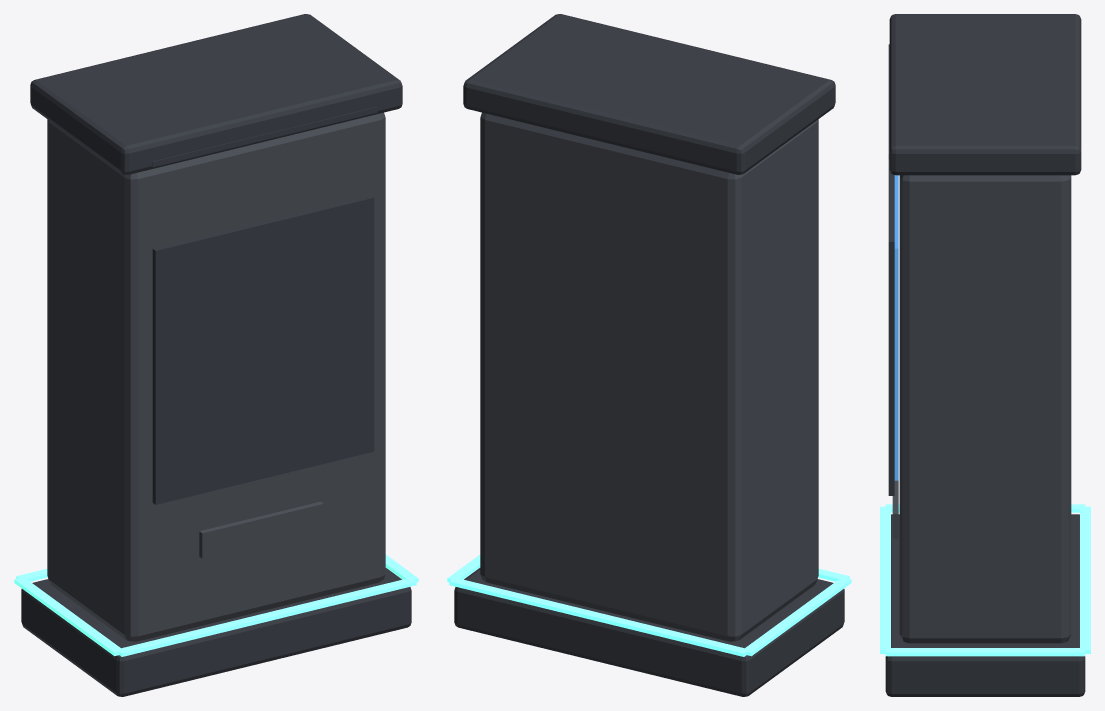
File: kiosk.glb
3 views of the same model, side by side, from view 1: azimuth 30°, elevation 25°; view 2: azimuth 150°, elevation 25°; view 3: azimuth 270°, elevation 25° (orthographic).
Parts seen in each view (by area): view 1: part_body, part_screen_edge, part_cap, part_base, part_logo, part_base_outline_x0, part_cap_glow, part_base_outline_z0; view 2: part_body, part_cap, part_base, part_base_outline_x1, part_base_outline_z0; view 3: part_body, part_cap, part_base, part_screen_edge, part_base_outline_z1, part_base_outline_x1, part_base_outline_x0, part_screen, part_logo.
Part boxes in pixels (bbox=[...]): part_body: bbox=[47, 112, 385, 641]; part_screen_edge: bbox=[152, 195, 374, 504]; part_cap: bbox=[30, 14, 402, 174]; part_base: bbox=[21, 568, 411, 696]; part_logo: bbox=[199, 501, 323, 558]; part_base_outline_x0: bbox=[119, 577, 416, 656]; part_cap_glow: bbox=[151, 107, 377, 167]; part_base_outline_z0: bbox=[14, 577, 122, 656]; part_body: bbox=[480, 112, 818, 641]; part_cap: bbox=[463, 14, 835, 174]; part_base: bbox=[454, 568, 844, 696]; part_base_outline_x1: bbox=[449, 577, 746, 656]; part_base_outline_z0: bbox=[742, 577, 851, 656]; part_body: bbox=[899, 175, 1071, 643]; part_cap: bbox=[889, 14, 1081, 175]; part_base: bbox=[885, 514, 1085, 696]; part_screen_edge: bbox=[888, 159, 894, 495]; part_base_outline_z1: bbox=[885, 648, 1085, 656]; part_base_outline_x1: bbox=[1080, 506, 1090, 653]; part_base_outline_x0: bbox=[880, 506, 890, 653]; part_screen: bbox=[894, 175, 898, 480]; part_logo: bbox=[892, 480, 898, 539].
Size of the model in its own units: 1.76 by 3.02 by 1.05.
